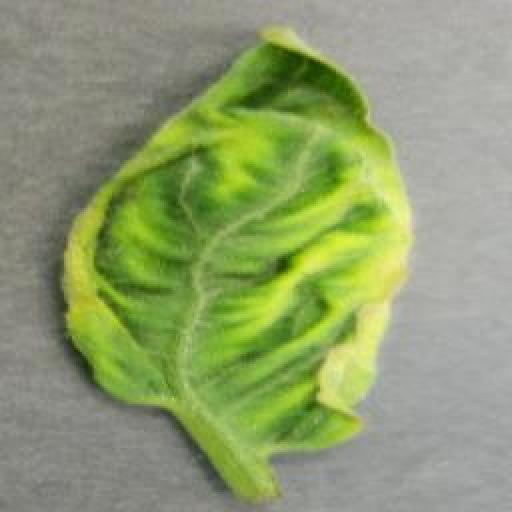disease_tomato: (62, 25, 415, 455)
